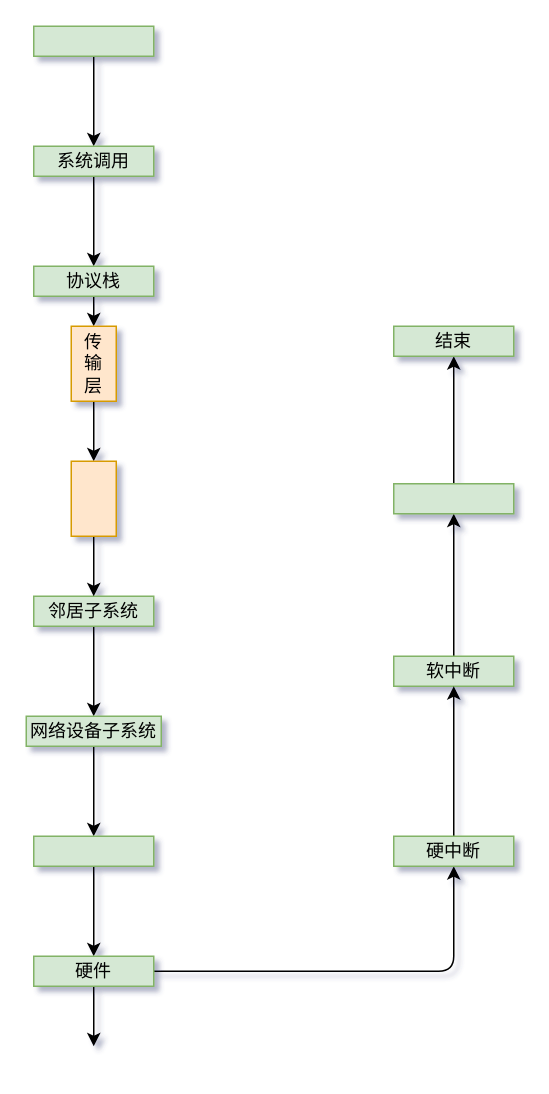
This 549x1094 diagram has some shape labels left out. The centre of each missing label's shape, as x and y in pixels:
应用层: (93,40)
网 络 层: (93,498)
驱动: (453,498)
驱动程序: (93,850)
